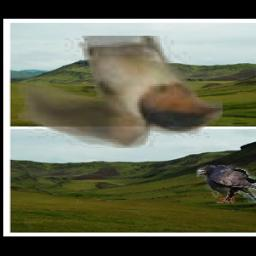Crow: (198, 166, 256, 204)
Swallow: (19, 36, 224, 148)
